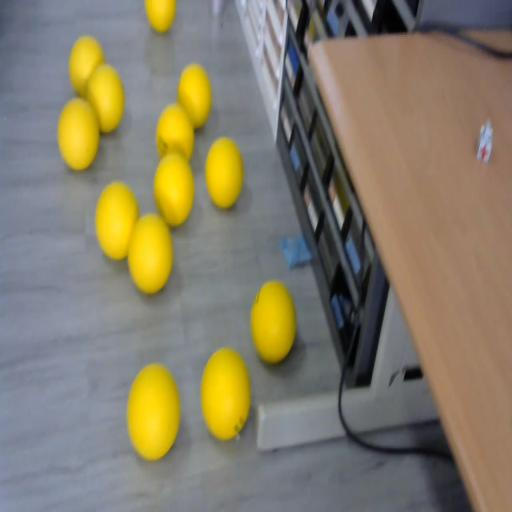FUEL: (126, 362, 180, 459), (200, 346, 252, 440), (249, 277, 297, 364), (126, 210, 174, 294), (94, 178, 139, 260), (152, 152, 196, 228), (56, 97, 100, 171), (204, 135, 244, 208), (86, 63, 126, 135), (178, 64, 212, 130), (144, 0, 176, 34)
